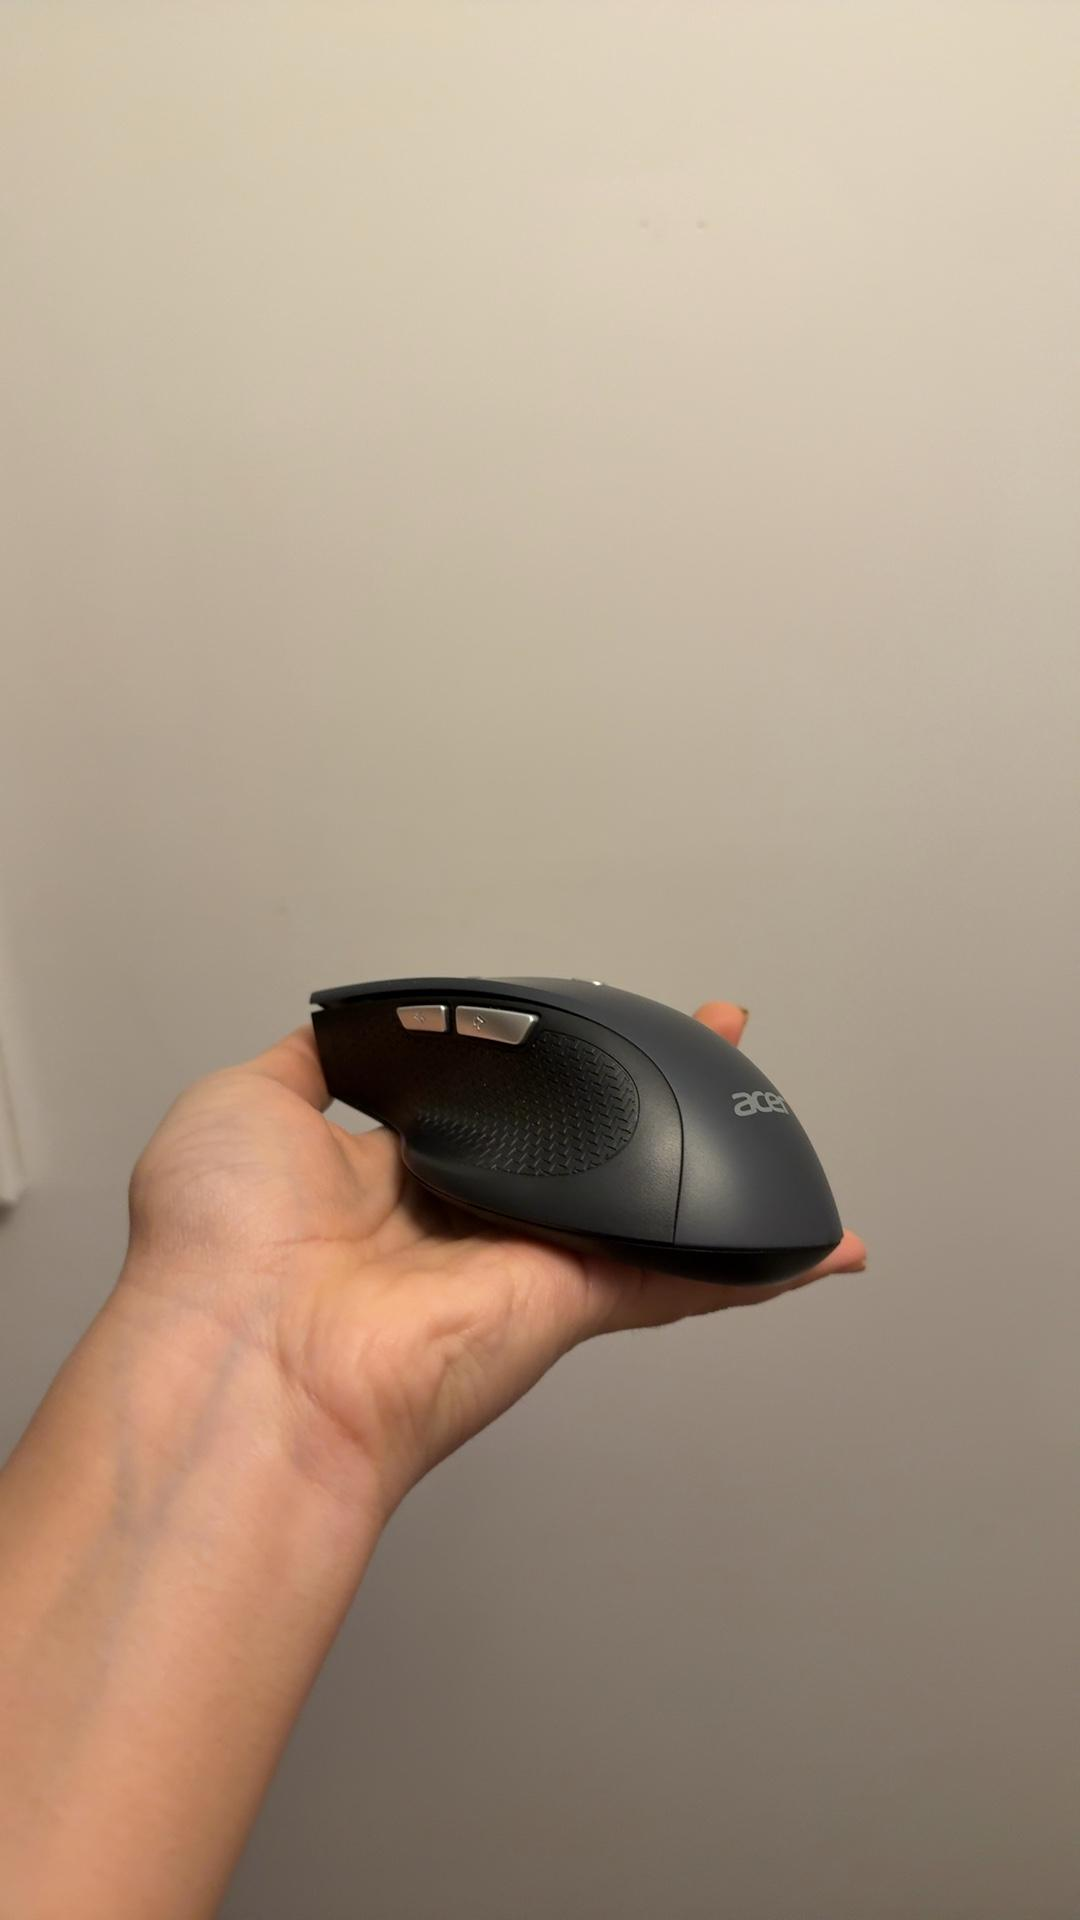Aulaf75: (260, 930, 910, 1280)
